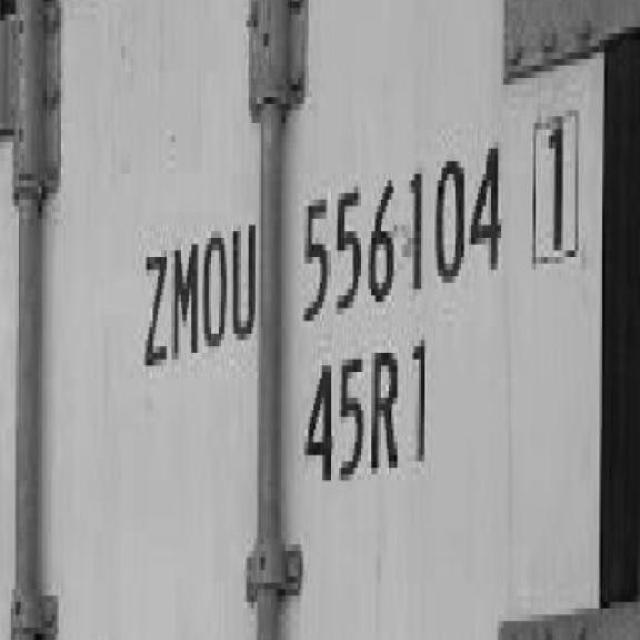dv: (524, 106, 586, 274)
owner: (132, 217, 264, 368)
serial: (292, 131, 510, 325)
size: (291, 332, 448, 488)
